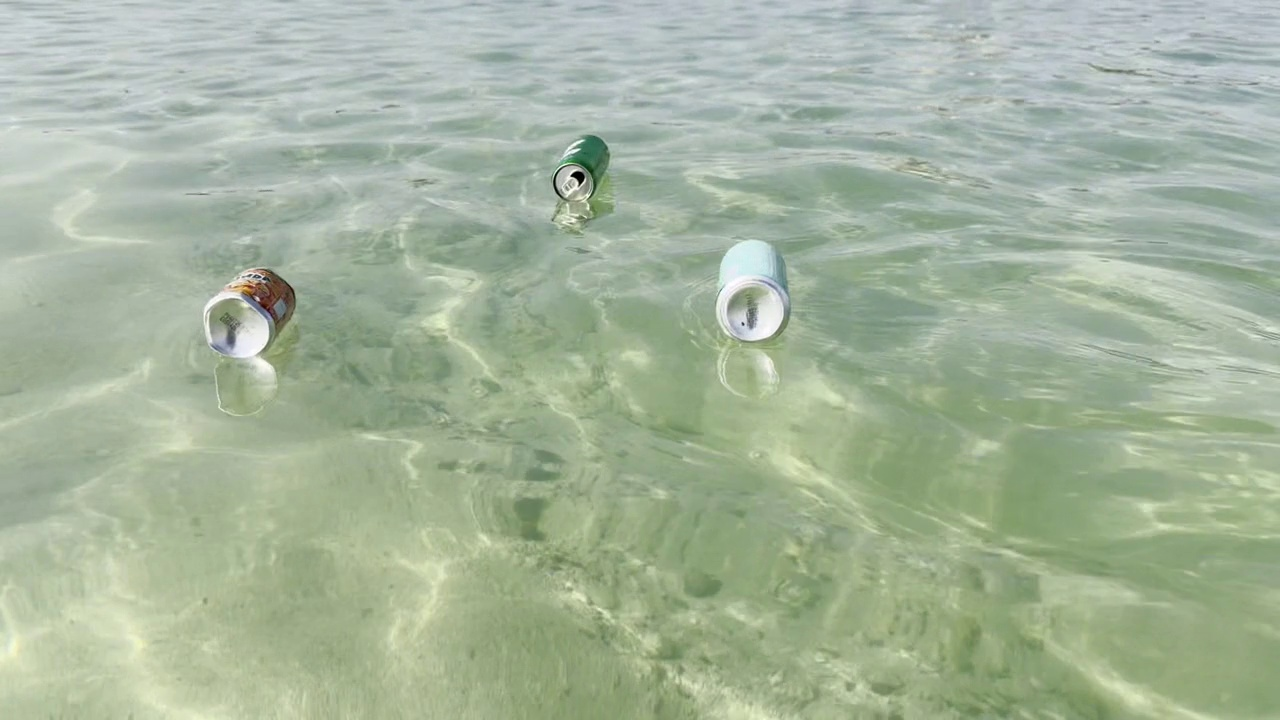debris: (199, 254, 299, 362), (712, 235, 795, 351), (550, 124, 618, 211)
